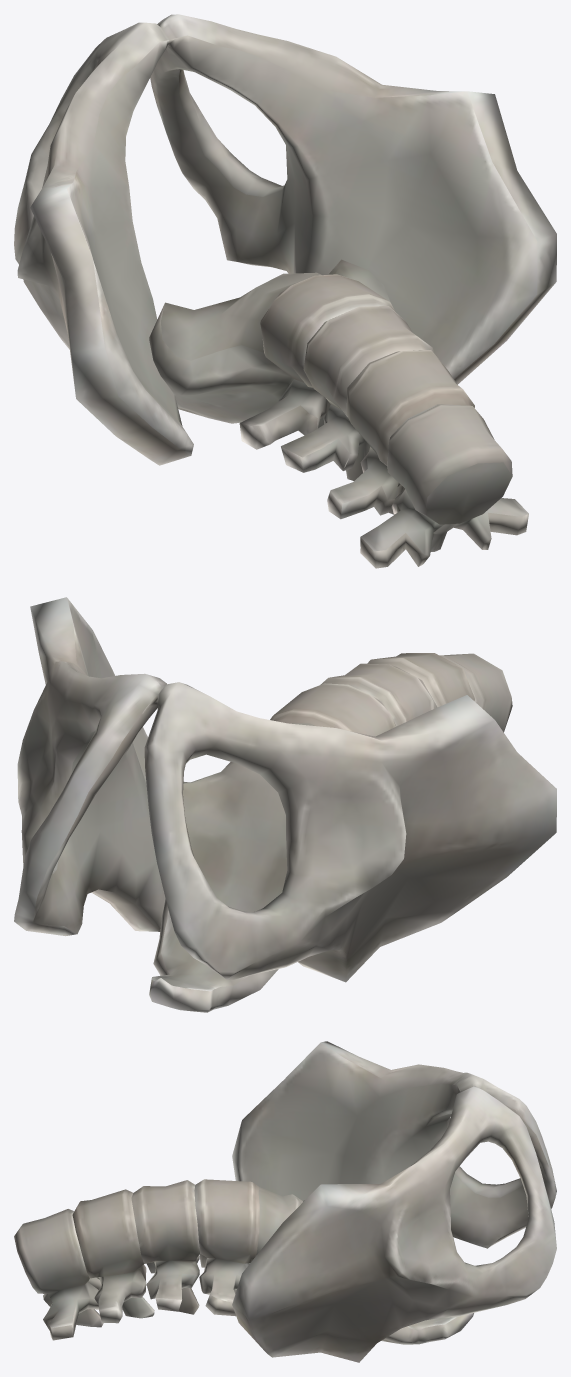
The picture shows the model from 3 angles, top to bottom: view 1: azimuth 30°, elevation 25°; view 2: azimuth 150°, elevation 25°; view 3: azimuth 270°, elevation 25°; orthographic projection. The views are drawn at different scales.
Parts seen in each view (by area): view 1: SM_Pelvic_LOD0; view 2: SM_Pelvic_LOD0; view 3: SM_Pelvic_LOD0.
Boxes of the visible parts, x1,y1,x2,y2 form: SM_Pelvic_LOD0: (14, 14, 556, 568); SM_Pelvic_LOD0: (14, 597, 556, 1012); SM_Pelvic_LOD0: (14, 1041, 556, 1362).
Size of the model in its own units: 0.3085 by 0.2158 by 0.411.
Materials: 1 (1 with a texture image).
